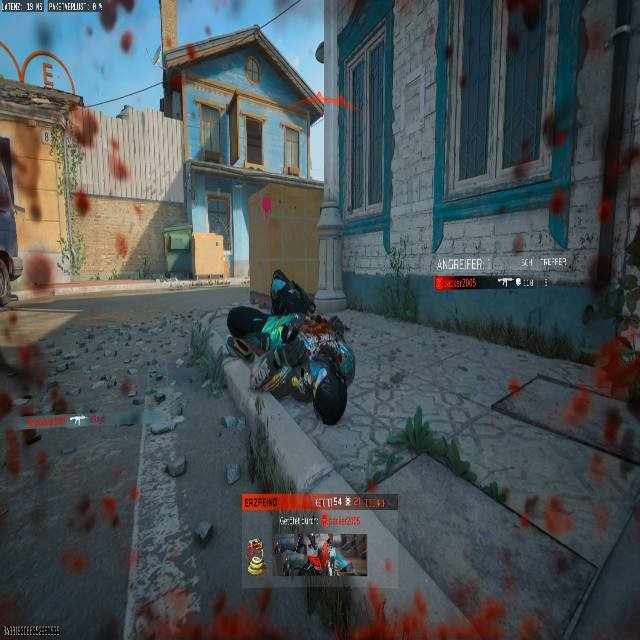head: (312, 382, 347, 425)
player: (220, 268, 356, 425)
